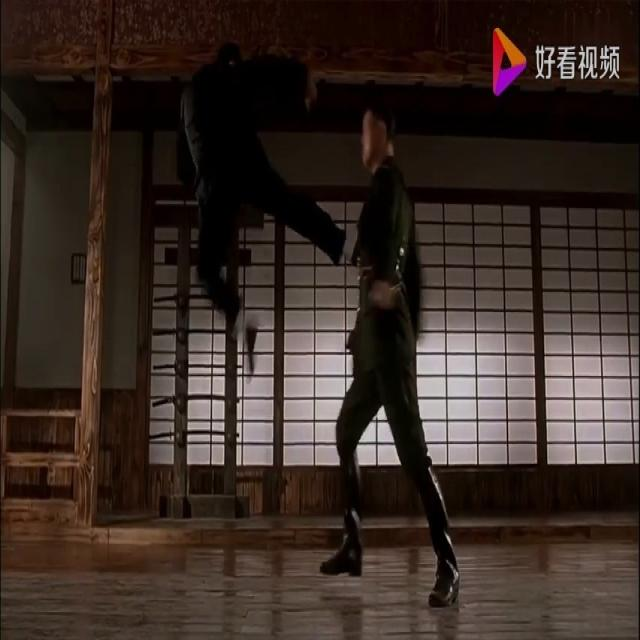fight: (157, 38, 461, 602)
